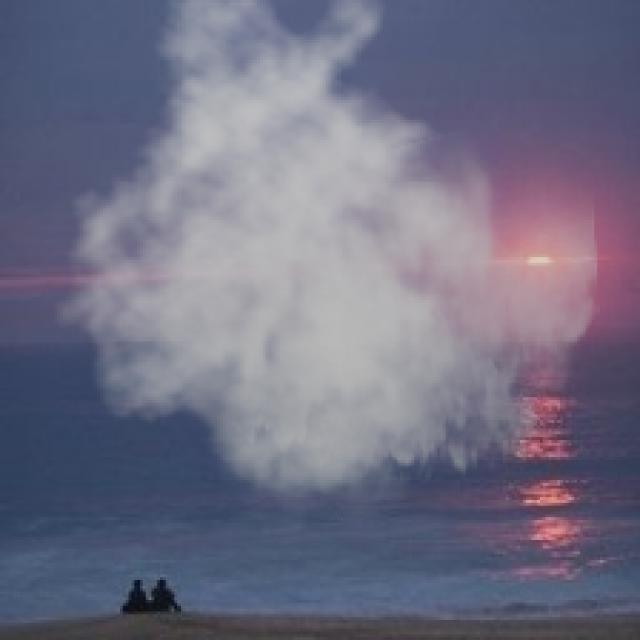smoke: (51, 0, 600, 546)
